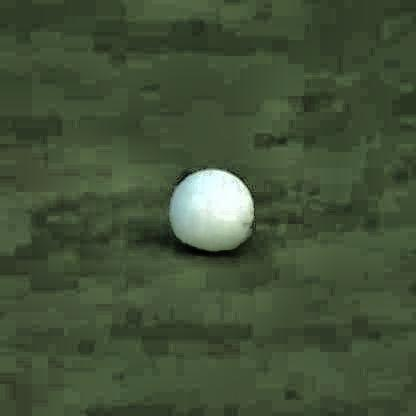golfball: (163, 167, 251, 250)
